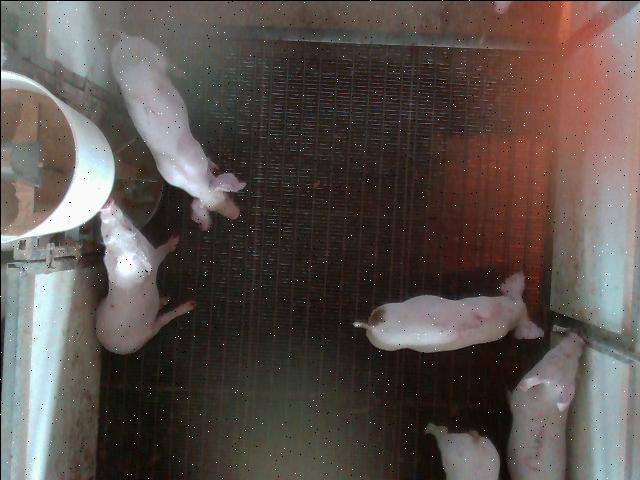pig-3: (506, 332, 582, 480)
pig-5: (352, 272, 542, 350)
